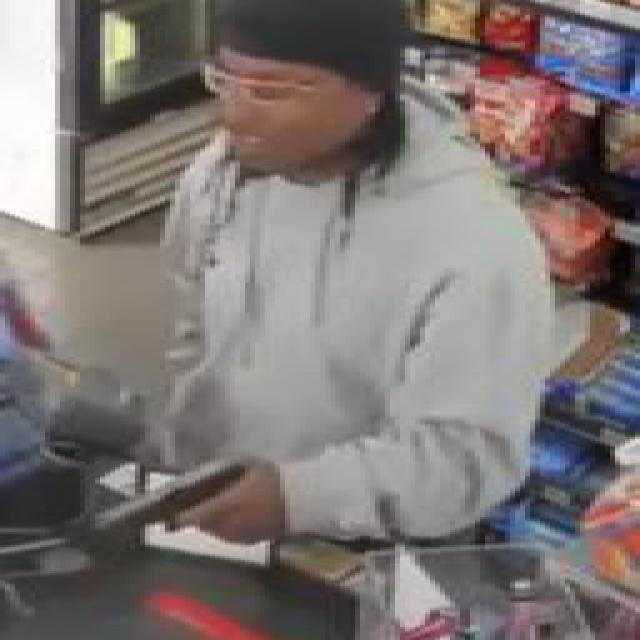Gun: (95, 460, 275, 548)
